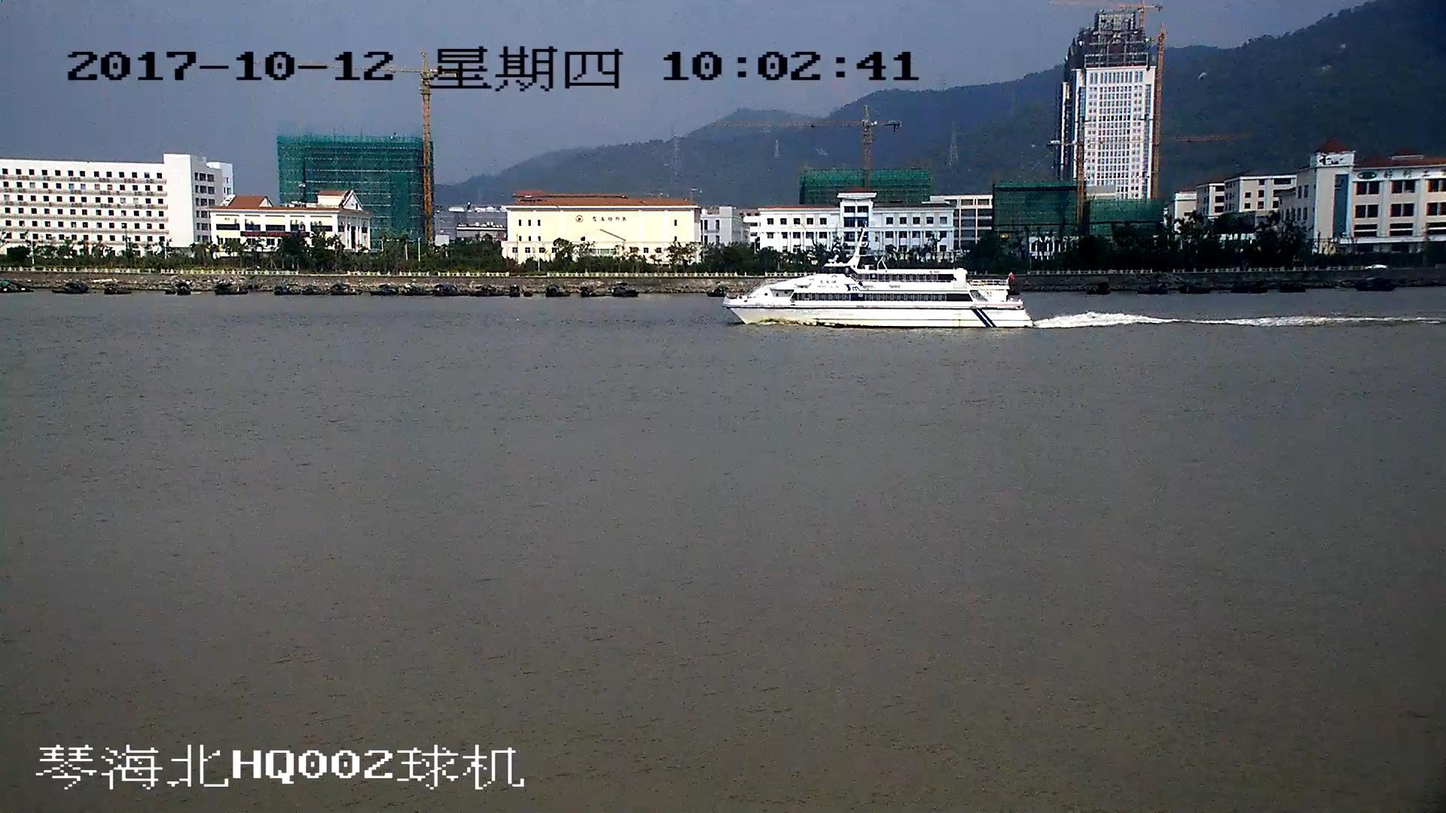passenger ship: (728, 224, 1027, 329)
